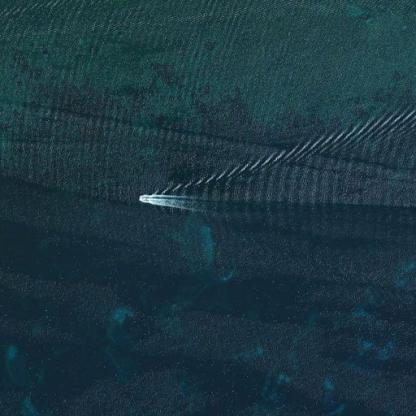ship: (132, 188, 154, 208)
